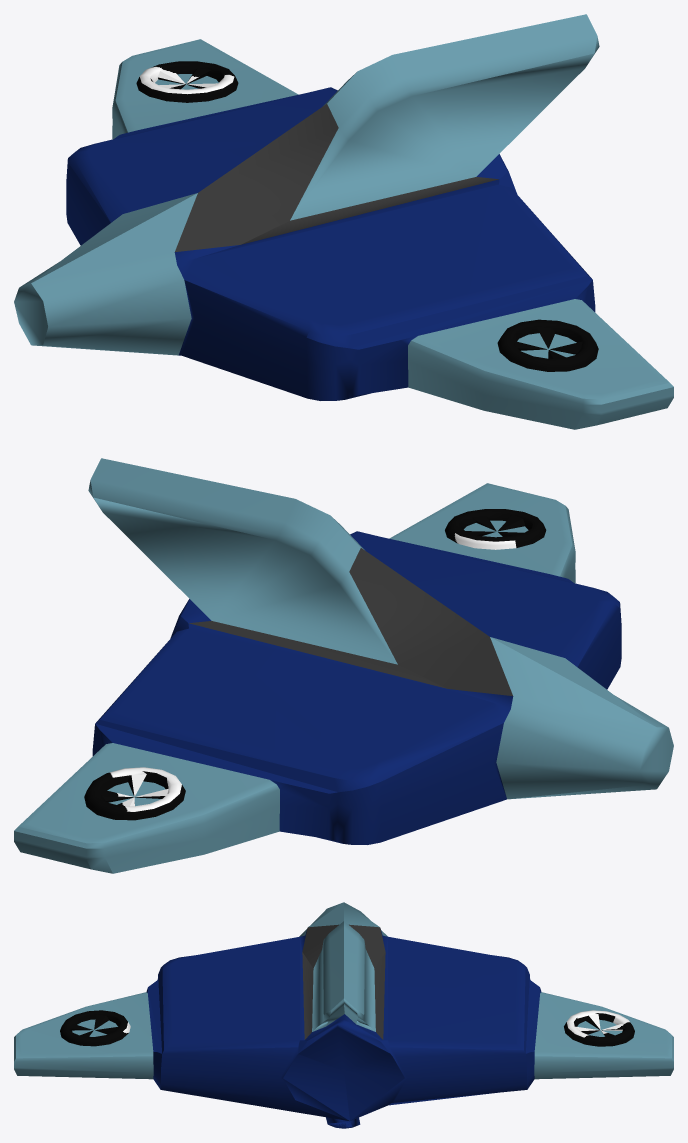
The model's file is Ship.fbx.
3 views of the same model, one above another, from view 1: azimuth 30°, elevation 25°; view 2: azimuth 150°, elevation 25°; view 3: azimuth 270°, elevation 25° (orthographic). The views are drawn at different scales.
Visible parts, largest first — view 1: Ship; view 2: Ship; view 3: Ship.
Part boxes in pixels (x1,y1,x2,y2): Ship: (14,14,673,429); Ship: (14,458,673,873); Ship: (14,902,673,1128).
Bounding box in the file's own units: 0.3137 × 0.1354 × 0.4596.
4 materials, 1 textured.
